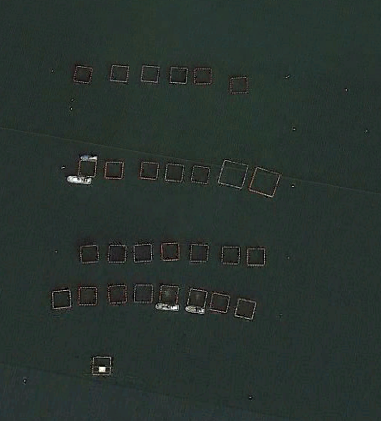ship: (66, 169, 97, 185), (183, 302, 207, 317), (153, 302, 181, 313)
square: (246, 162, 283, 202), (216, 154, 252, 191), (156, 279, 182, 313), (185, 281, 211, 315), (186, 159, 215, 189), (89, 352, 118, 380), (162, 60, 189, 90), (49, 285, 77, 313), (190, 59, 217, 88), (161, 155, 188, 184), (137, 155, 164, 184), (77, 241, 104, 269), (233, 295, 258, 325), (227, 70, 253, 98), (156, 238, 182, 266), (130, 240, 156, 268), (105, 239, 131, 267), (187, 237, 212, 266), (208, 288, 233, 317), (108, 61, 134, 88), (99, 158, 127, 183), (105, 281, 129, 309), (132, 279, 156, 307), (218, 240, 244, 265), (140, 60, 164, 87), (243, 245, 269, 269), (72, 64, 96, 89), (76, 155, 99, 181), (77, 282, 99, 309)
